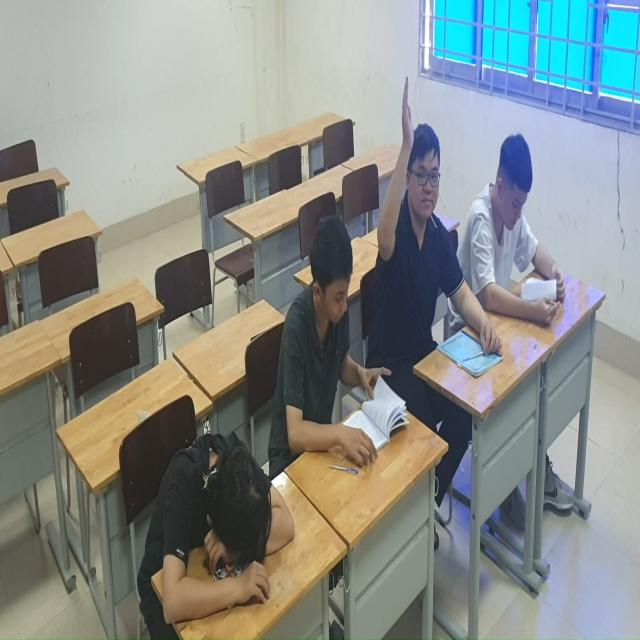raise_hand: (384, 72, 456, 349)
read: (273, 209, 414, 470), (470, 134, 570, 338)
sleep: (124, 439, 295, 640)
